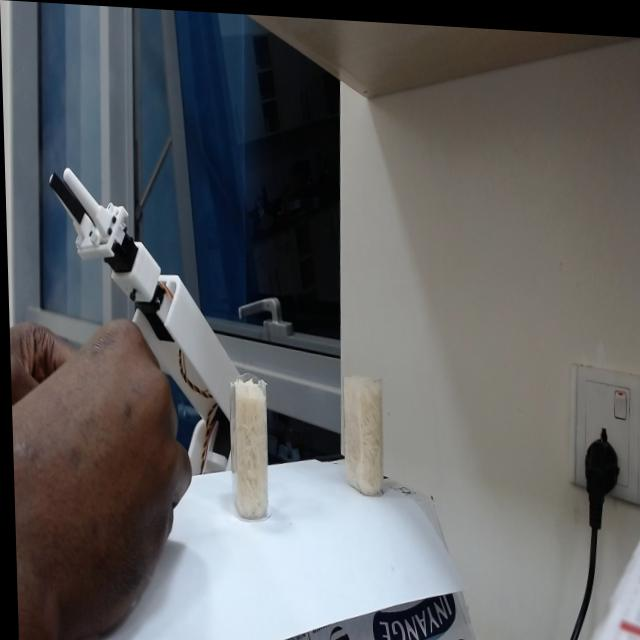raw_rice: (229, 376, 264, 515), (341, 369, 380, 490)
